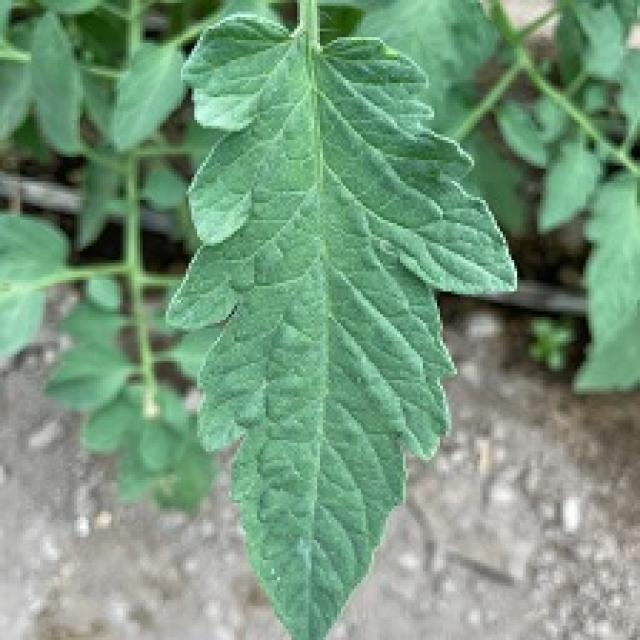Healthy: (95, 0, 595, 640)
